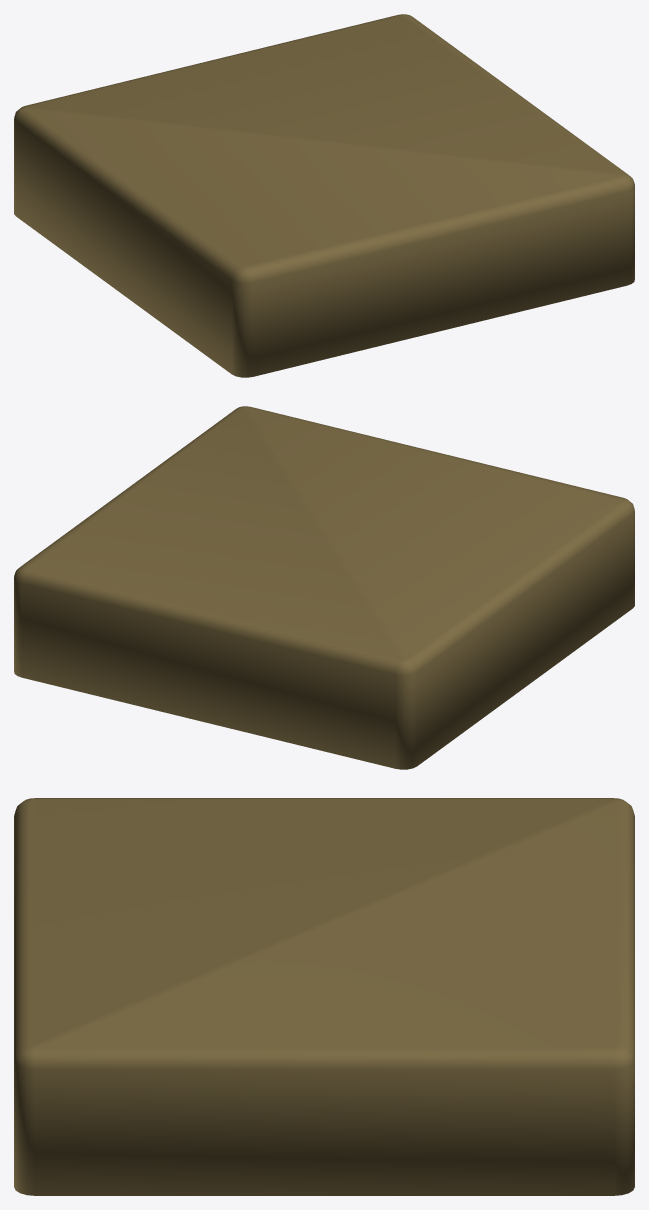
File: ground.dae
3 renders of one model, top to bottom at view 1: azimuth 30°, elevation 25°; view 2: azimuth 150°, elevation 25°; view 3: azimuth 270°, elevation 25°, orthographic. The views are drawn at different scales.
Parts seen in each view (by area): view 1: Cube; view 2: Cube; view 3: Cube.
Part boxes in pixels (x1=…): Cube: x1=14, y1=14, x2=634, y2=377; Cube: x1=14, y1=406, x2=634, y2=769; Cube: x1=14, y1=798, x2=634, y2=1195.
Size of the model in its own units: 3 by 3 by 0.75.
